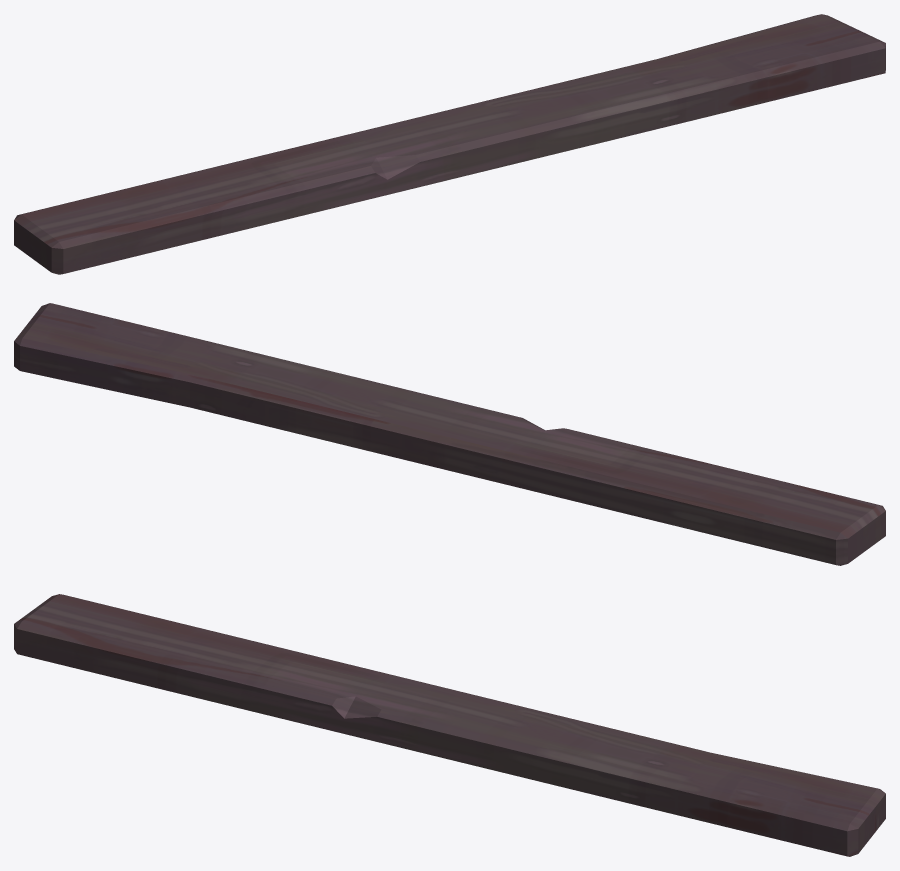
Rendered from Wood_01.fbx.
The picture shows the model from 3 angles, top to bottom: view 1: azimuth 30°, elevation 25°; view 2: azimuth 150°, elevation 25°; view 3: azimuth 330°, elevation 25°; orthographic projection.
Visible parts, largest first — view 1: Wood_01; view 2: Wood_01; view 3: Wood_01.
Part boxes in pixels (bbox=[...]): Wood_01: bbox=[14, 14, 885, 274]; Wood_01: bbox=[14, 303, 885, 565]; Wood_01: bbox=[14, 594, 885, 856].
Size of the model in its own units: 200 by 7.52 by 21.28.
